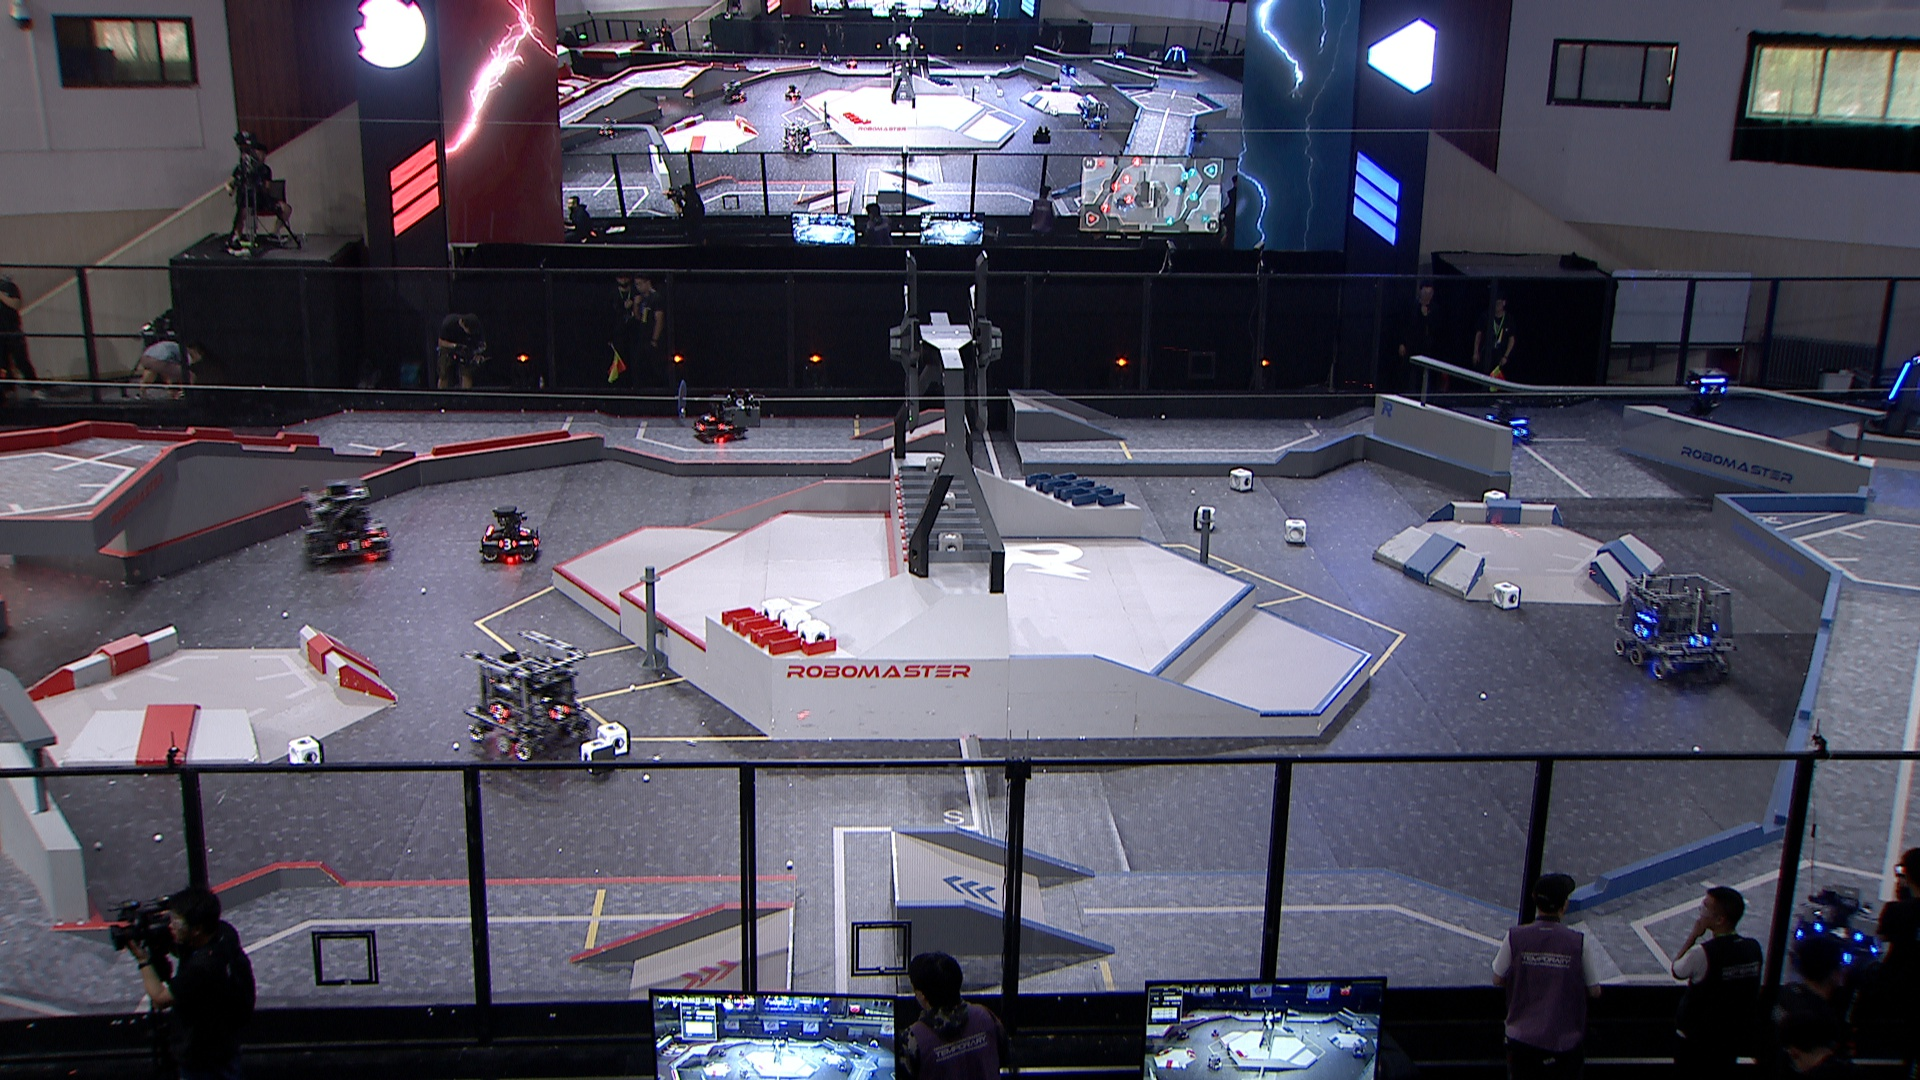armor: (1812, 918, 1865, 943), (1887, 361, 1913, 400), (338, 534, 371, 553), (545, 702, 571, 723), (487, 700, 510, 719), (1689, 632, 1712, 650), (496, 538, 517, 553), (1633, 622, 1650, 640), (1698, 384, 1726, 394), (361, 520, 378, 535), (716, 422, 735, 433), (516, 524, 531, 535), (694, 419, 707, 433), (1513, 427, 1528, 438), (704, 415, 717, 422)
base: (1865, 352, 1920, 443)
car: (462, 632, 591, 765), (1609, 567, 1741, 683), (1783, 891, 1902, 986), (294, 477, 392, 570), (477, 506, 542, 560), (1476, 396, 1538, 446), (694, 400, 746, 442)
ignore: (783, 120, 816, 158), (1077, 98, 1106, 131), (719, 79, 749, 105), (1159, 45, 1189, 69)
watcher: (1681, 363, 1731, 419)
